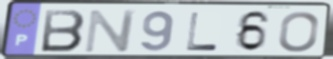6: (233, 10, 271, 54)
9: (139, 9, 177, 54)
B: (39, 8, 88, 54)
L: (185, 11, 221, 52)
N: (82, 8, 139, 54)
O: (277, 10, 321, 54)
